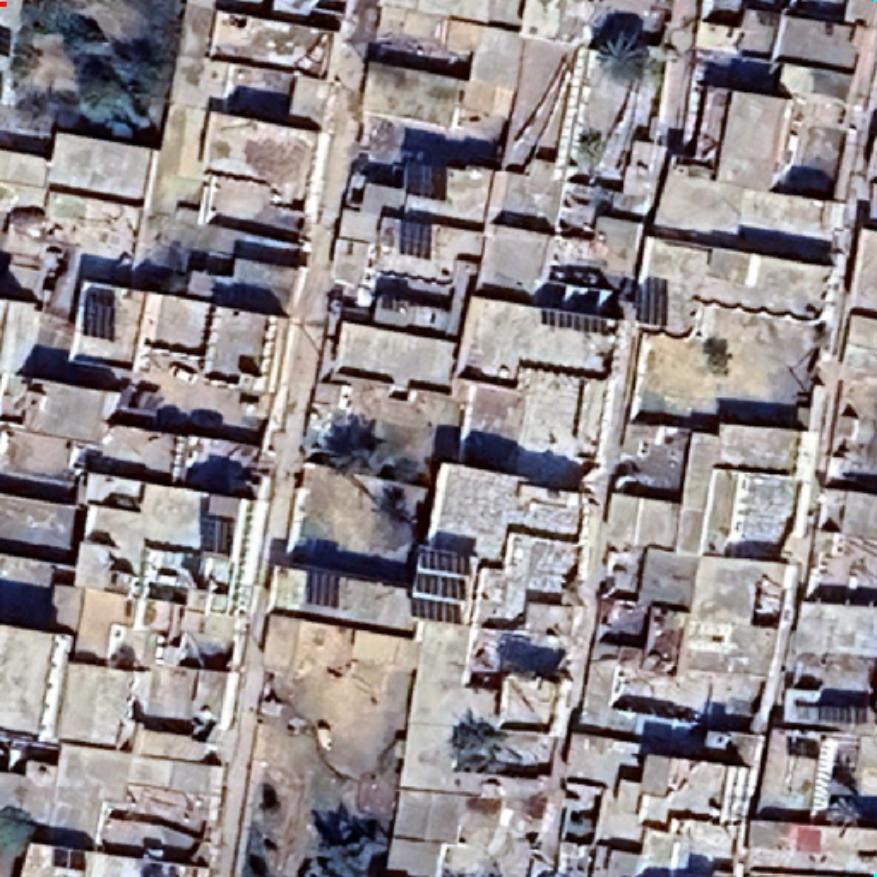Solarpanel: (406, 540, 476, 628), (536, 302, 616, 338), (77, 284, 121, 344), (401, 156, 451, 204), (632, 272, 672, 330), (300, 562, 346, 612), (394, 213, 438, 262), (196, 510, 236, 558), (48, 842, 89, 874)
